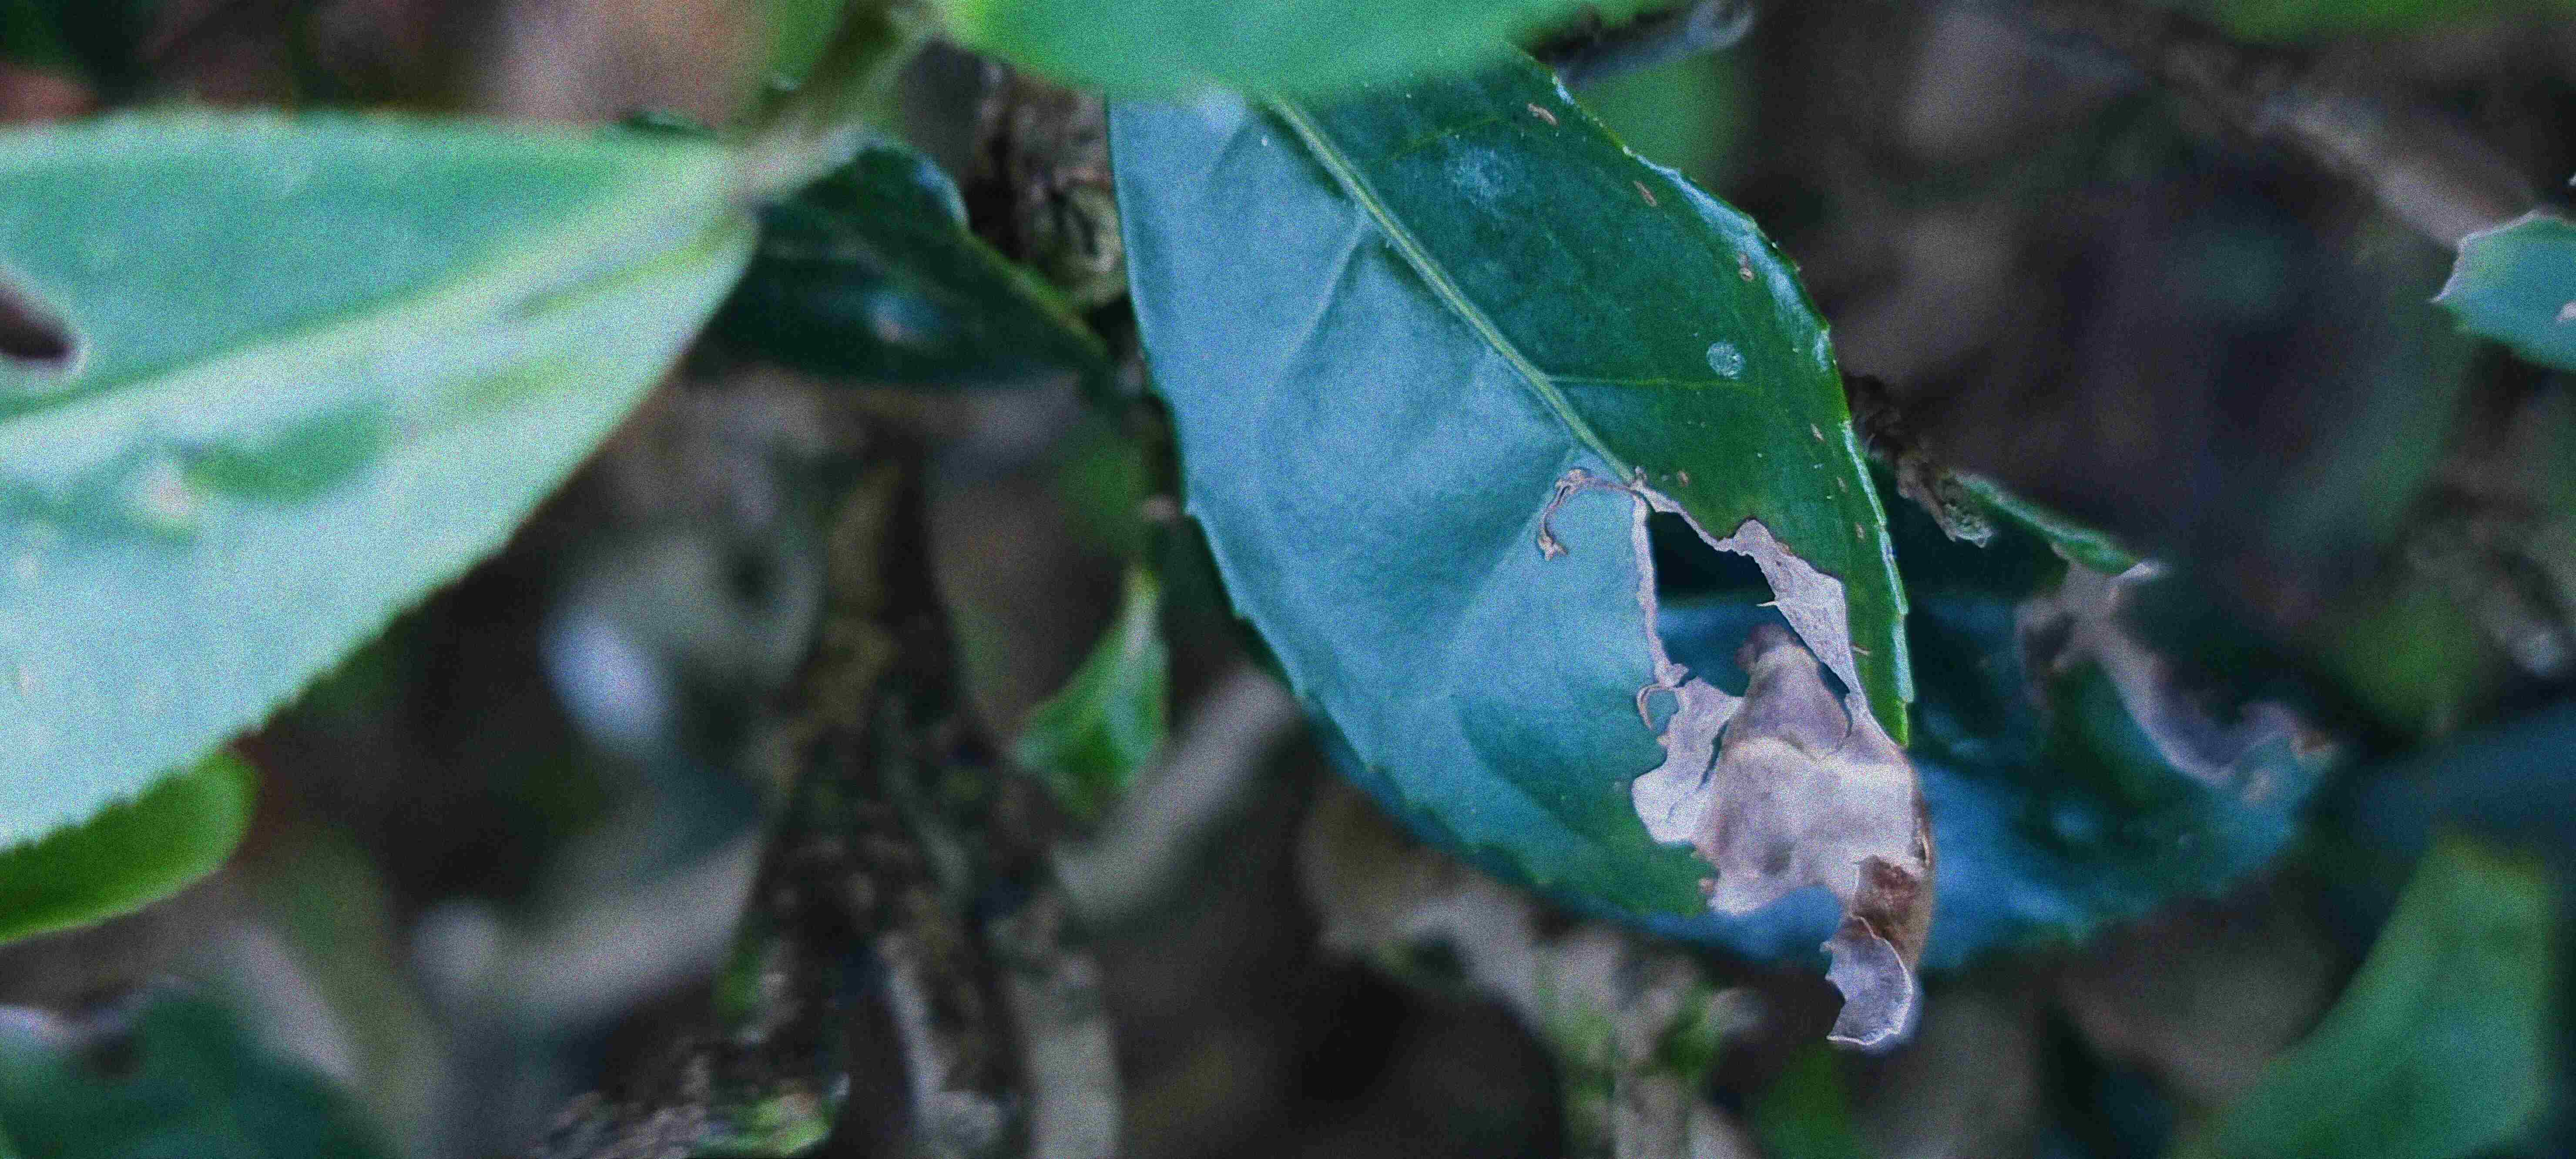chihuo_low: (2, 94, 766, 850)
tanju_high: (1106, 44, 1939, 1046)
